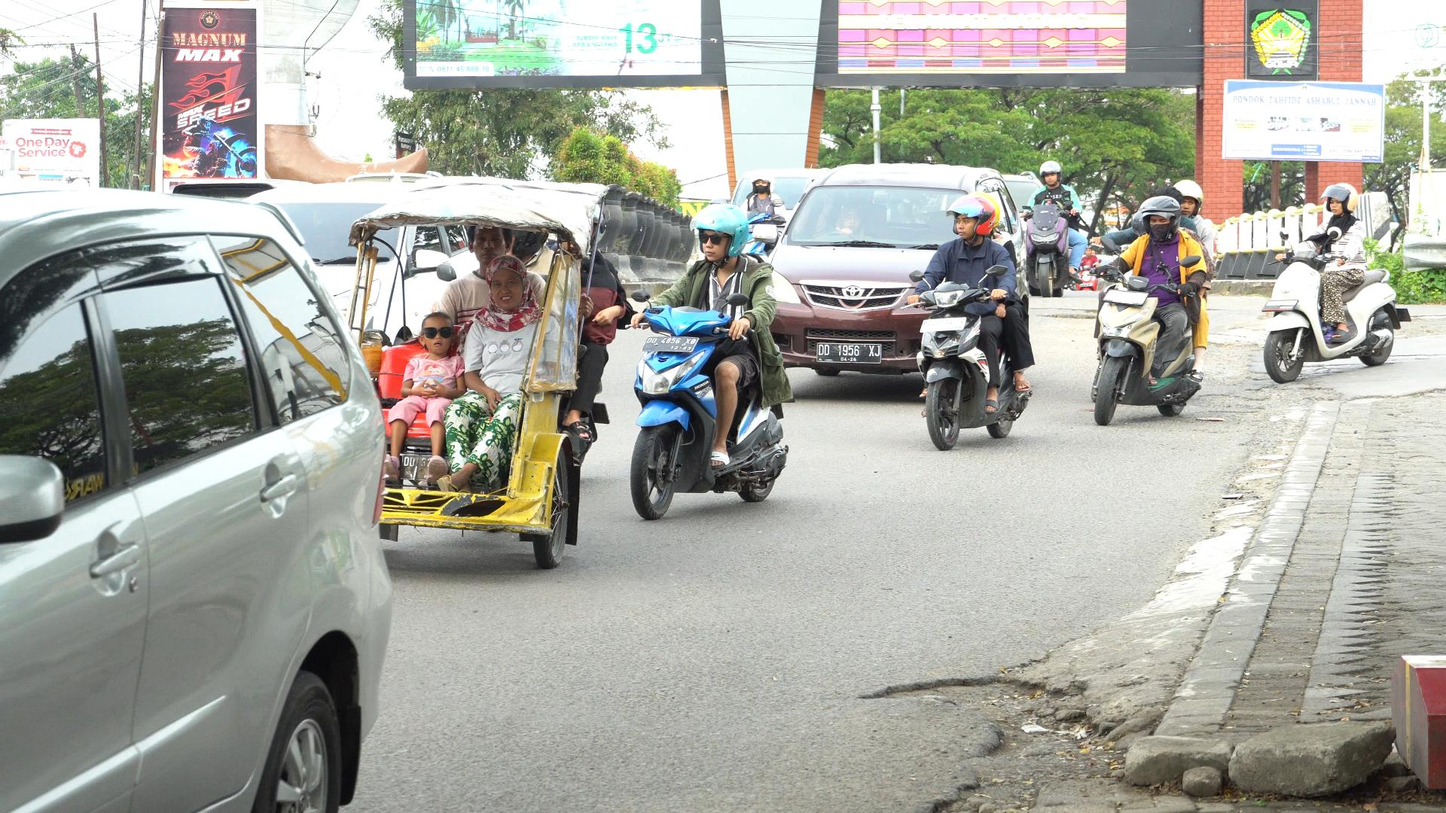number-plate: (641, 334, 696, 357)
